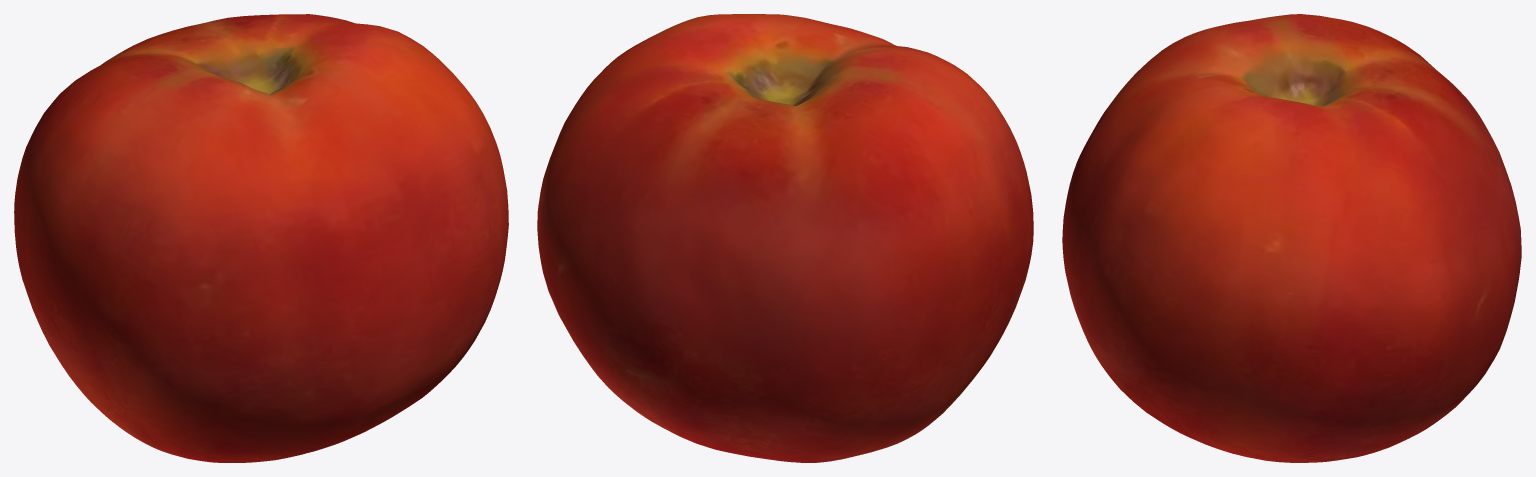
File: food_produce_tomato_a01.glb
3 renders of one model, left to right at view 1: azimuth 30°, elevation 25°; view 2: azimuth 150°, elevation 25°; view 3: azimuth 270°, elevation 25°, orthographic. The views are drawn at different scales.
Visible parts, largest first — view 1: sm_food_produce_tomato_a01_mesh_00_0; view 2: sm_food_produce_tomato_a01_mesh_00_0; view 3: sm_food_produce_tomato_a01_mesh_00_0.
Part boxes in pixels (<box>): sm_food_produce_tomato_a01_mesh_00_0: <box>14,14,508,462</box>; sm_food_produce_tomato_a01_mesh_00_0: <box>537,14,1033,462</box>; sm_food_produce_tomato_a01_mesh_00_0: <box>1062,14,1521,462</box>.
Size of the model in its own units: 0.065 by 0.0568 by 0.0621.
1 material, 1 textured.
